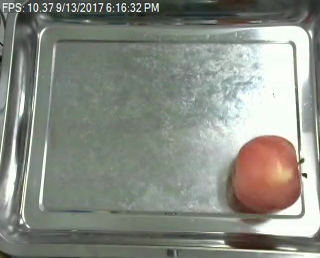Apple: (231, 134, 302, 212)
